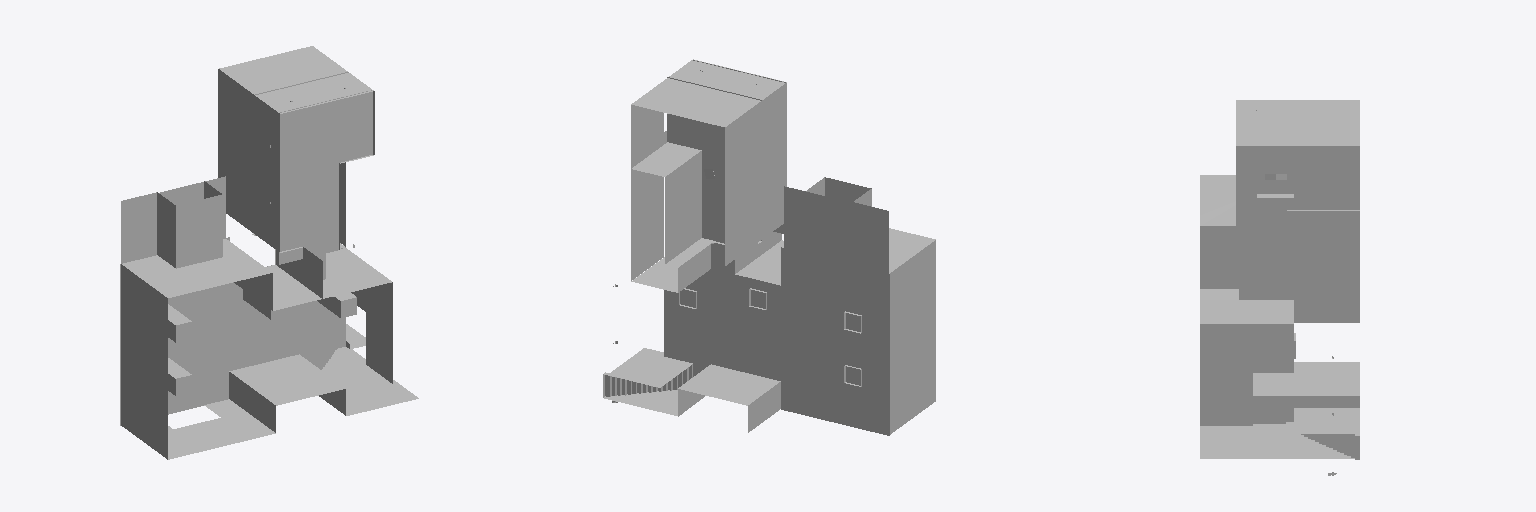
File: aztec_2_mesh.obj
3 renders of one model, left to right at view 1: azimuth 30°, elevation 25°; view 2: azimuth 150°, elevation 25°; view 3: azimuth 270°, elevation 25°, orthographic.
Parts seen in each view (by area): view 1: aztec_2_mesh_1, aztec_2_mesh_0; view 2: aztec_2_mesh_1, aztec_2_mesh_0; view 3: aztec_2_mesh_1.
Part boxes in pixels (x1,y1,x2,y2): aztec_2_mesh_1: (121, 46, 418, 459); aztec_2_mesh_0: (120, 72, 348, 425); aztec_2_mesh_1: (603, 59, 935, 434); aztec_2_mesh_0: (664, 77, 889, 435); aztec_2_mesh_1: (1200, 100, 1359, 475).
Bounding box in the file's own units: 31.19 × 36.6 × 16.86.